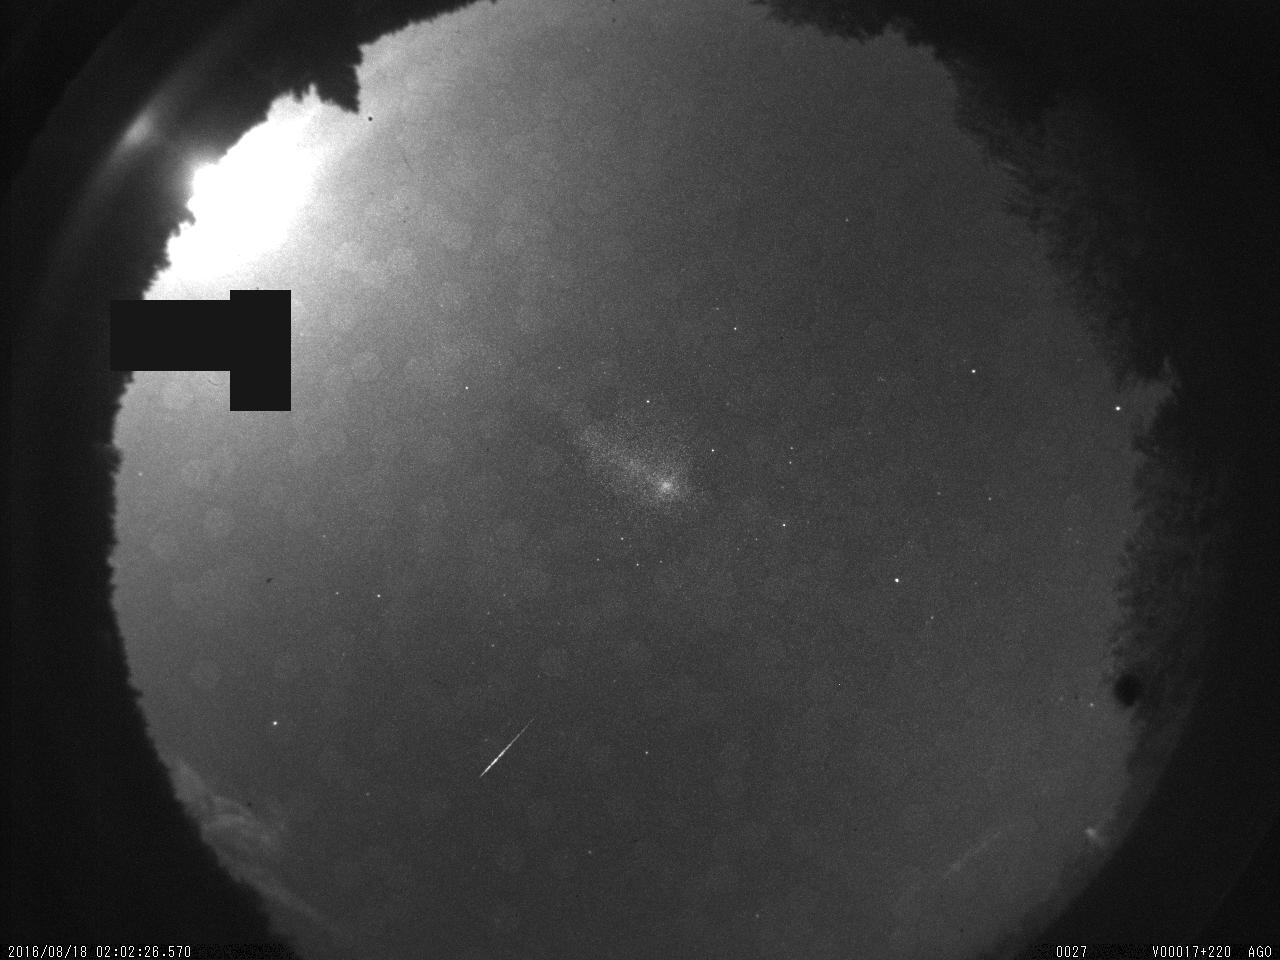meteor: (471, 709, 549, 788)
